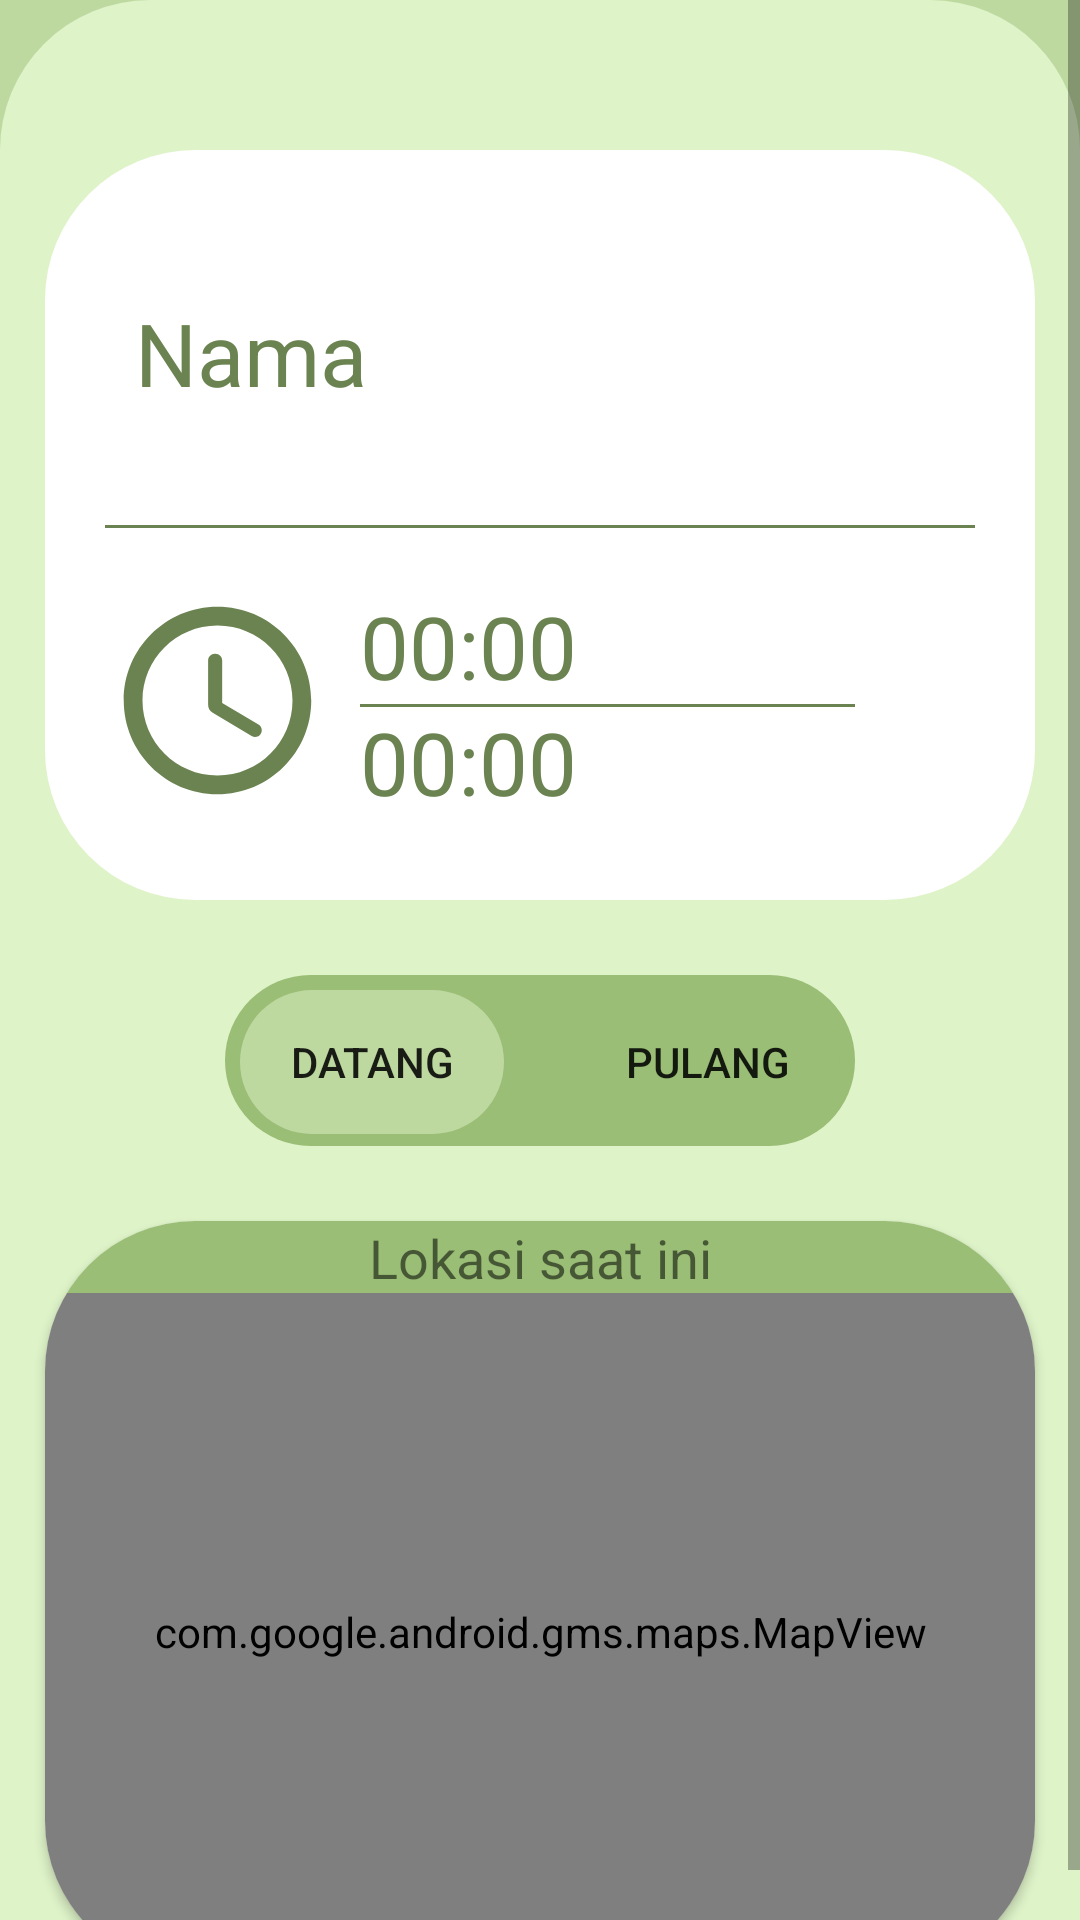

Screen size 1080px×1920px. Icon name, then its box in pixels as (x1, y1, x2, y2):
access time: (123, 606, 312, 795)
